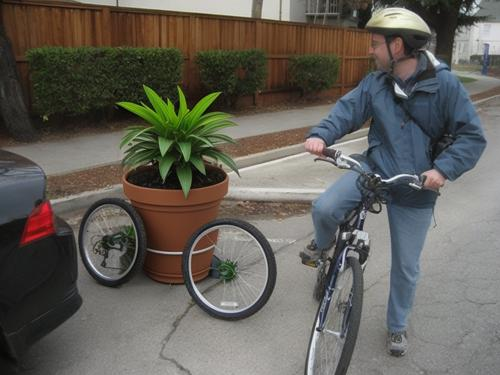bicycle: (77, 157, 280, 323), (299, 146, 443, 375)
person: (298, 6, 490, 359)
person/foot: (299, 237, 336, 263), (386, 331, 409, 356)
person/hand: (420, 169, 445, 189), (306, 137, 327, 158)
person/head: (365, 7, 431, 70)
pottedplant: (119, 84, 238, 285)
